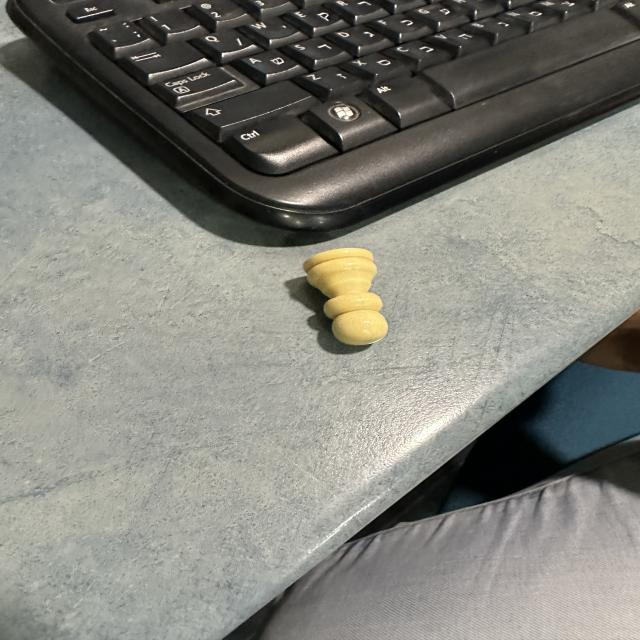White-Pawn: (300, 247, 390, 347)
